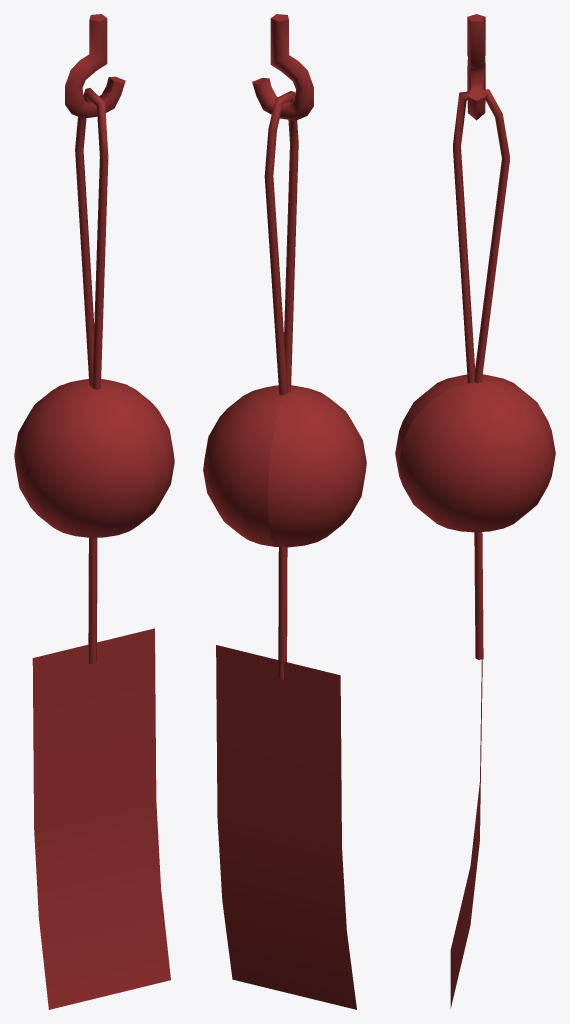
The model's file is prop01_ballon_01.fbx.
3 views of the same model, side by side, from view 1: azimuth 30°, elevation 25°; view 2: azimuth 150°, elevation 25°; view 3: azimuth 270°, elevation 25° (orthographic). The views are drawn at different scales.
Visible parts, largest first — view 1: Object027; view 2: Object027; view 3: Object027.
Boxes of the visible parts, <box> form: Object027: <box>14,14,174,1009</box>; Object027: <box>203,14,366,1009</box>; Object027: <box>395,14,555,1008</box>.
Size of the model in its own units: 13.88 by 91.74 by 13.88.
